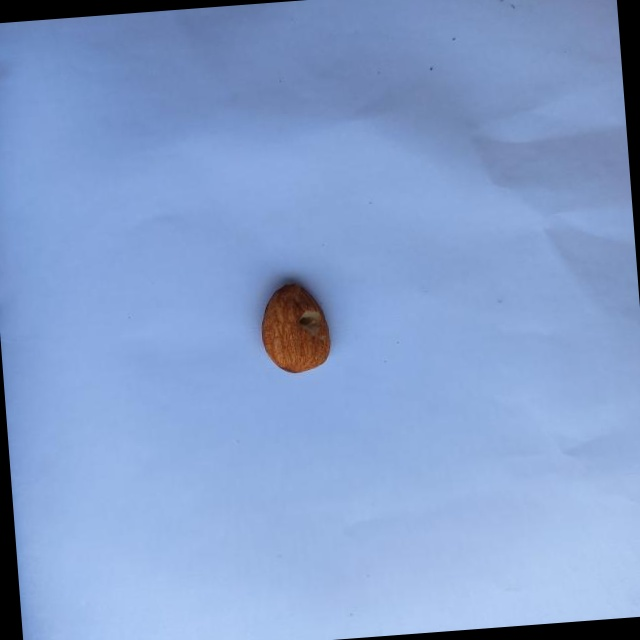grade3: (256, 276, 338, 380)
